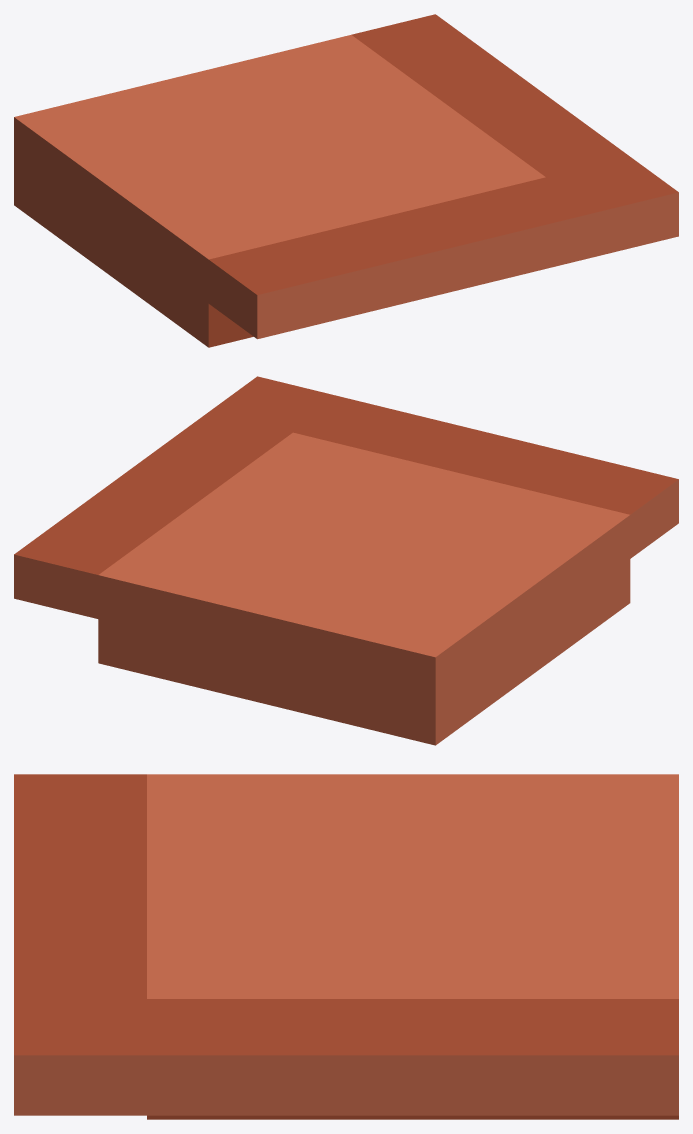
The model's file is desert-floor-corner-square.glb.
3 renders of one model, top to bottom at view 1: azimuth 30°, elevation 25°; view 2: azimuth 150°, elevation 25°; view 3: azimuth 270°, elevation 25°, orthographic. The views are drawn at different scales.
Visible parts, largest first — view 1: porch_floorCorner; view 2: porch_floorCorner; view 3: porch_floorCorner.
Boxes of the visible parts, box(x1,y1,x2,y2) form: porch_floorCorner: box(14, 14, 678, 347); porch_floorCorner: box(14, 376, 678, 745); porch_floorCorner: box(14, 774, 678, 1119).
Bounding box in the file's own units: 0.5 × 0.1 × 0.5.
